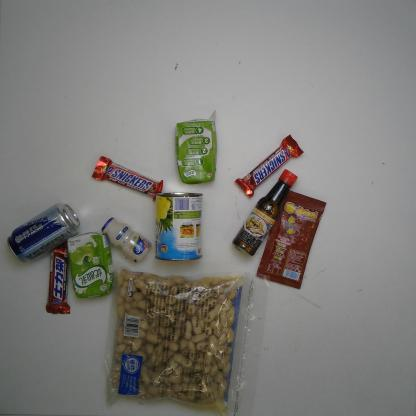Alcohol: (7, 202, 80, 262)
Candy: (255, 189, 327, 290)
Canned Food: (155, 191, 203, 261)
Chocolate: (234, 134, 304, 198), (90, 155, 164, 201), (45, 239, 71, 315)
Dried Food: (98, 257, 272, 416)
Milk: (67, 231, 116, 299), (175, 109, 218, 185), (98, 216, 152, 263)
Seasoner: (232, 169, 299, 257)
